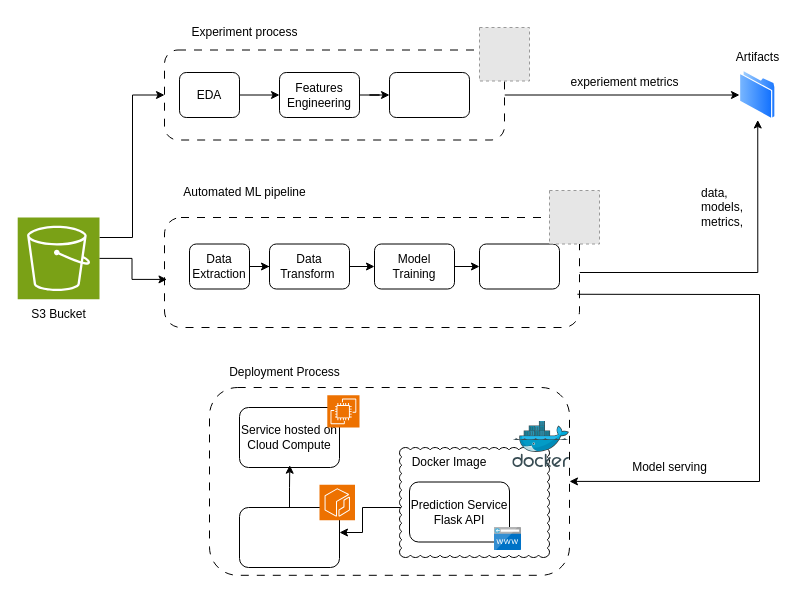
Image size: 810x593. Some labels were removed from this diagram. Grey dashed boxes stand in for pictures. Here are the shapes that lost their labels. From the top down, the centre of each, then its label:
At pixel 429 95: "Model Experiments".
At pixel 519 266: "Model Validation".
At pixel 289 537: "Cloud container Storage".
